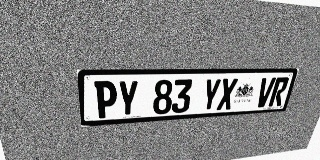3: (171, 79, 193, 113)
8: (152, 80, 174, 115)
P: (94, 81, 117, 119)
R: (268, 77, 290, 107)
V: (254, 77, 276, 108)
X: (216, 78, 238, 110)
Y: (118, 80, 139, 117), (200, 79, 222, 111)
